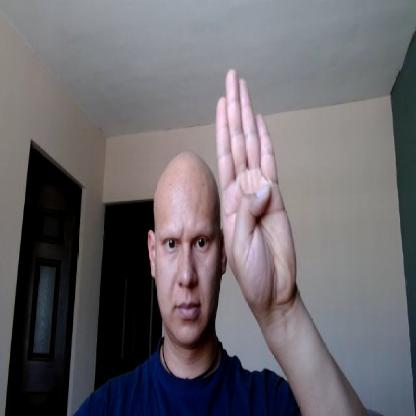B: (215, 68, 298, 300)
